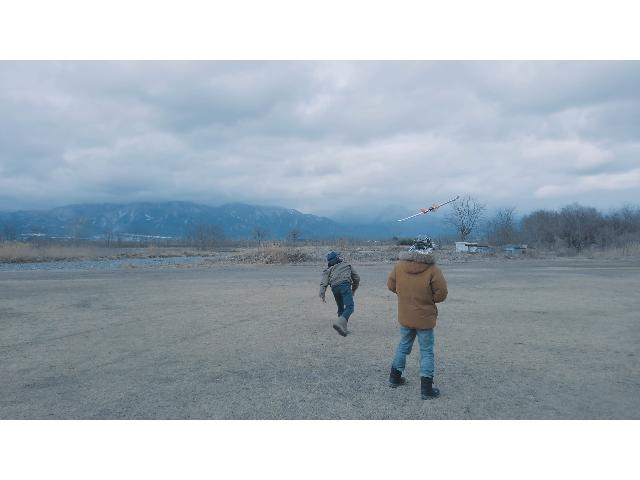Anti-Drone: (394, 193, 464, 225)
